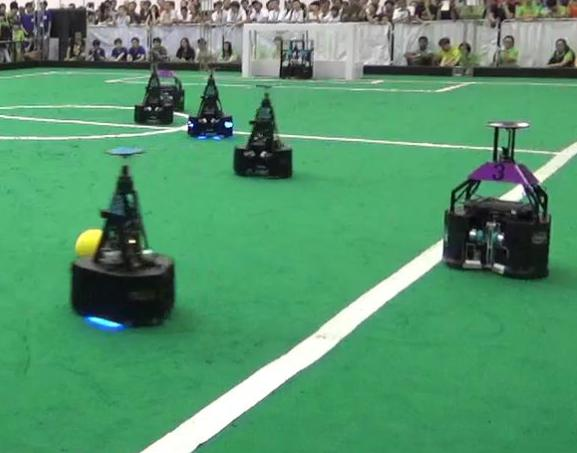robot: (65, 142, 179, 331), (436, 114, 557, 281), (231, 82, 297, 182), (184, 67, 236, 140), (132, 59, 177, 127)
